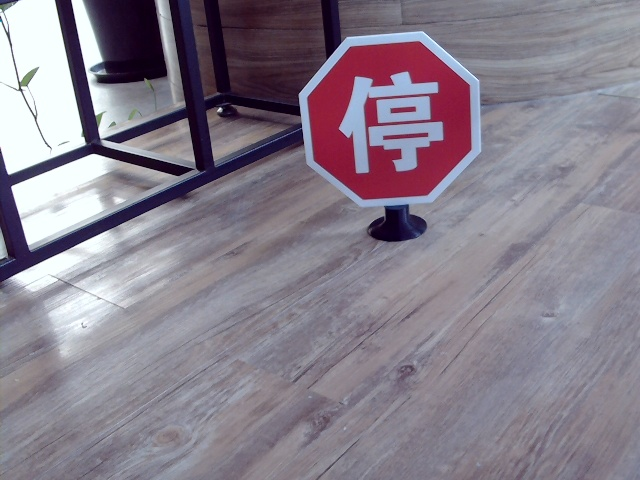stop: (336, 70, 442, 175)
